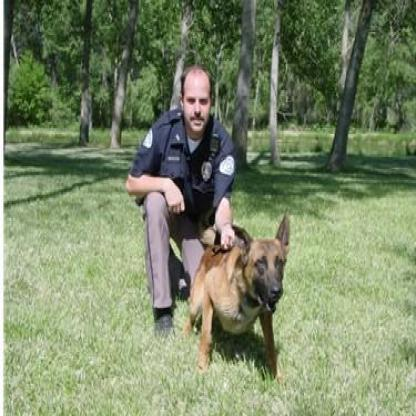dog: (188, 218, 297, 378)
